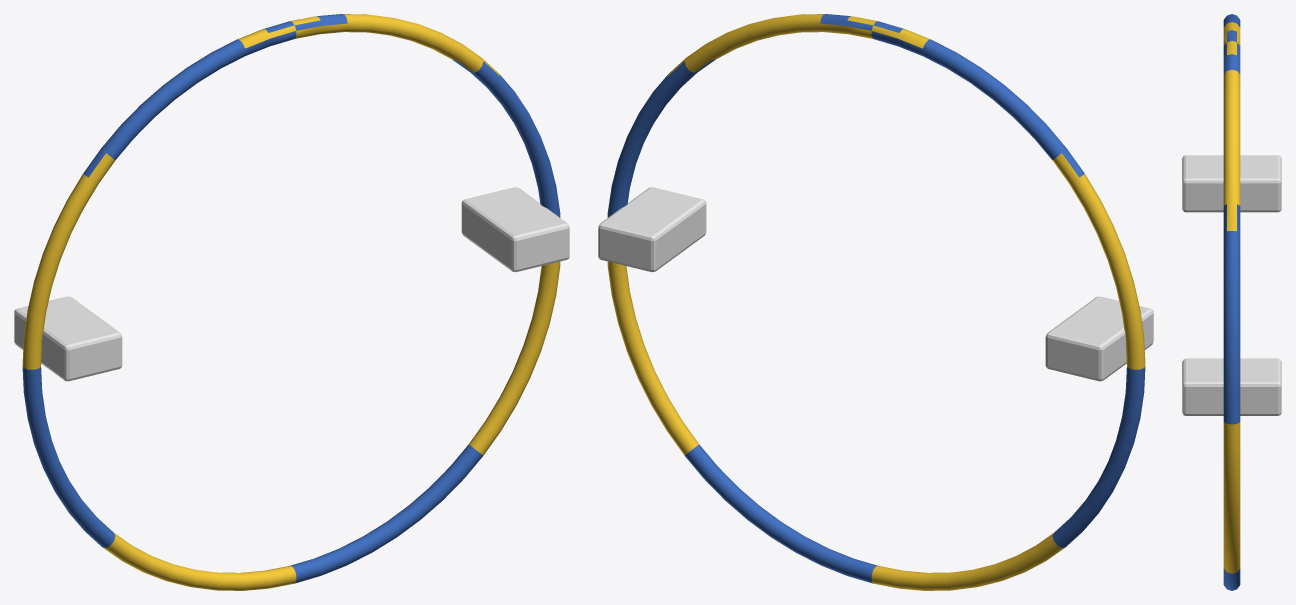
The model's file is toy_hoop.fbx.
3 views of the same model, side by side, from view 1: azimuth 30°, elevation 25°; view 2: azimuth 150°, elevation 25°; view 3: azimuth 270°, elevation 25° (orthographic). The views are drawn at different scales.
Parts seen in each view (by area): view 1: blue_1, yellow_1, ply_1; view 2: blue_1, yellow_1, ply_1; view 3: ply_1, yellow_1, blue_1.
Boxes of the visible parts, left/top/right/bottom form: blue_1: left=22, top=14, right=560, bottom=583; yellow_1: left=22, top=14, right=560, bottom=590; ply_1: left=14, top=187, right=569, bottom=381; blue_1: left=607, top=14, right=1145, bottom=583; yellow_1: left=607, top=14, right=1145, bottom=590; ply_1: left=598, top=187, right=1153, bottom=381; ply_1: left=1182, top=155, right=1281, bottom=415; yellow_1: left=1223, top=22, right=1240, bottom=573; blue_1: left=1223, top=14, right=1240, bottom=590.
Size of the model in its own units: 2.23 by 2.23 by 0.384.
